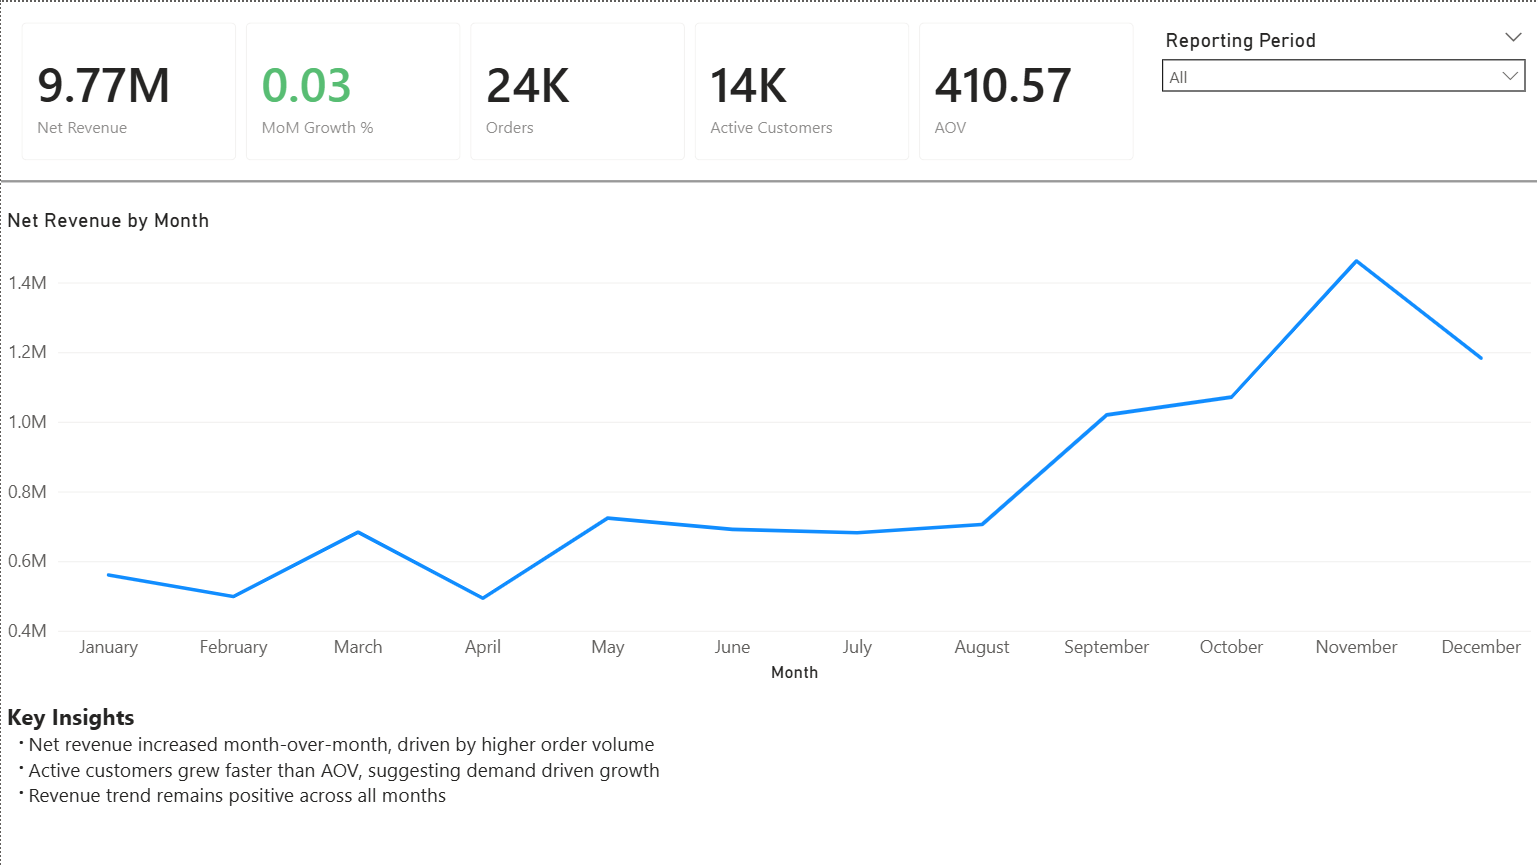

This screenshot's page, from the dashboard's own definition file:
{"tool":"powerbi","page":{"name":"Page 1","canvas":[1280,720],"ordinal":0},"visuals":[{"type":"cardVisual","fields":{"Data":["public vw_kpi_monthly.Net Revenue","public vw_kpi_monthly.MoM Growth %","public vw_kpi_monthly.Order","public vw_kpi_monthly.Active Customers","public vw_kpi_monthly.AOVc"]},"box":[0,0,962.4,149.9],"z":0},{"type":"lineChart","fields":{"Category":["public vw_kpi_monthly.month.Variation.Date Hierarchy.Month"],"Y":["public vw_kpi_monthly.Net Revenue"]},"box":[0,171.4,1280,399.3],"z":1000},{"type":"slicer","fields":{"Values":["public vw_kpi_monthly.month.Variation.Date Hierarchy.Month"]},"box":[957.1,16.4,322.9,115],"z":2000},{"type":"shape","box":[0,143.6,1280,12.1],"z":3000},{"type":"textbox","box":[0,577.9,640,142.1],"z":4000}]}

Visuals, with their boxes in screenshot pixels (x1, y1, x2, y2), scaled from the page's 1280x720 canvas onto the 1537x866 screenshot:
cardVisual - public vw_kpi_monthly.Net Revenue x public vw_kpi_monthly.MoM Growth %: bbox=(0, 0, 1156, 180)
lineChart - public vw_kpi_monthly.month.Variation.Date Hierarchy.Month x public vw_kpi_monthly.Net Revenue: bbox=(0, 206, 1536, 686)
slicer - public vw_kpi_monthly.month.Variation.Date Hierarchy.Month: bbox=(1149, 20, 1536, 158)
shape: bbox=(0, 173, 1536, 187)
textbox: bbox=(0, 695, 768, 865)
